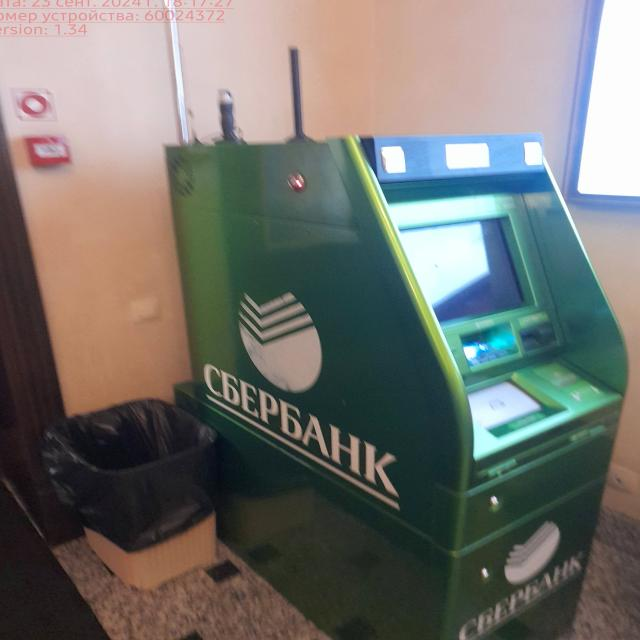bank: (161, 130, 629, 640)
